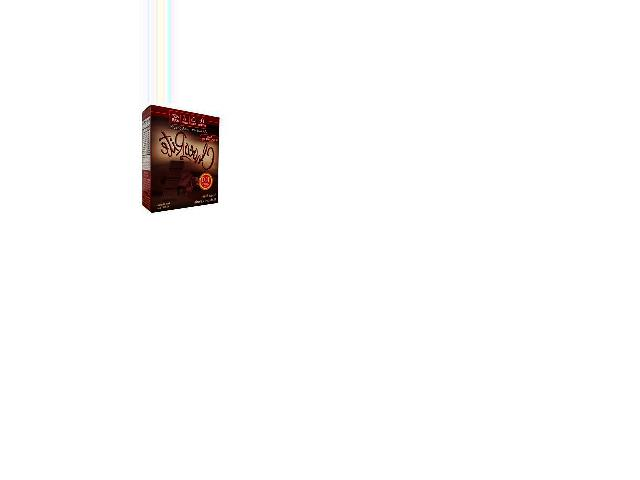chocolate: (142, 107, 221, 212)
